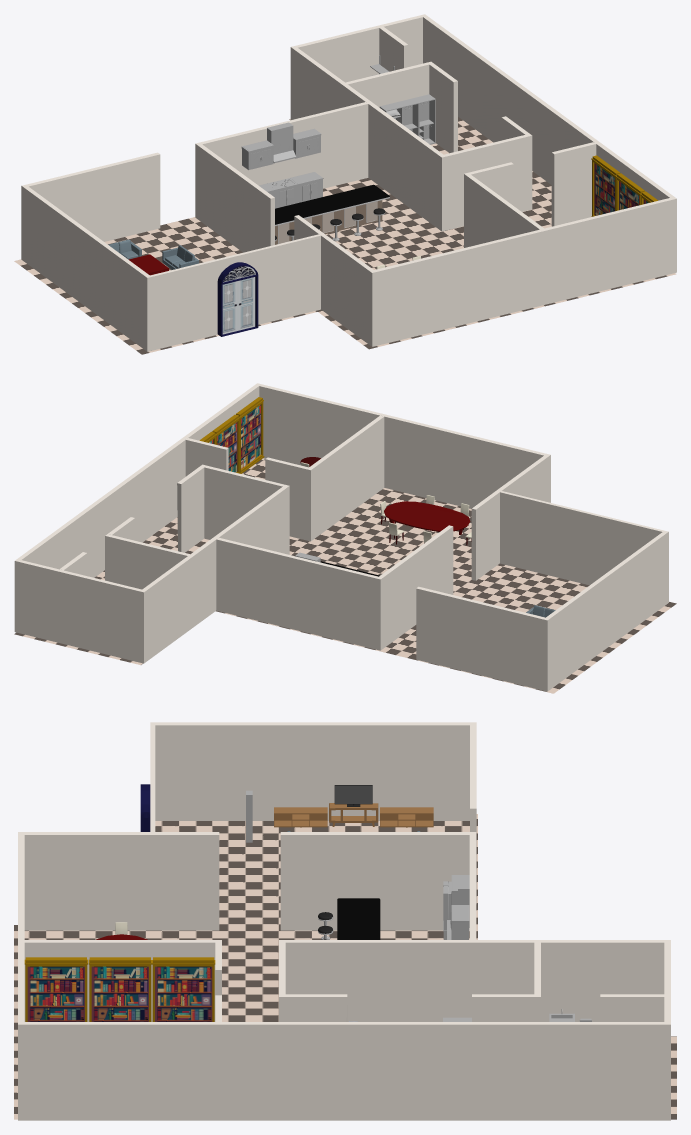
The model's file is Home_1.glb.
The picture shows the model from 3 angles, top to bottom: view 1: azimuth 30°, elevation 25°; view 2: azimuth 150°, elevation 25°; view 3: azimuth 270°, elevation 25°; orthographic projection. The views are drawn at different scales.
Parts seen in each view (by area): view 1: Home_wall_7, Floor_1, Home_wall_18, Home_wall_1, Home_wall_2, Home_wall_12, Home_wall_3, Home_wall_6, Home_wall_5, Home_wall_4, Home_wall_16, polySurface13618 (+20 smaller); view 2: Home_wall_7, Floor_1, Home_wall_6, Home_wall_18, Home_wall_2, Home_wall_3, Home_wall_1, Home_wall_16, Home_wall_12, Home_wall_10, Home_wall_5, Home_wall_4 (+8 smaller); view 3: Home_wall_18, Home_wall_2, Home_wall_12, Home_wall_4, Floor_1, Home_wall_5, BookShelf_3, BookShelf_1, BookShelf_2, Home_wall_10, polySurface13618, Home_wall_13 (+11 smaller).
Part boxes in pixels (left/top/right/bottom): Home_wall_7: left=374, top=198, right=672, bottom=345; Floor_1: left=14, top=117, right=676, bottom=354; Home_wall_18: left=421, top=14, right=676, bottom=273; Home_wall_1: left=150, top=234, right=320, bottom=350; Home_wall_2: left=21, top=184, right=151, bottom=351; Home_wall_12: left=290, top=46, right=446, bottom=231; Home_wall_3: left=26, top=152, right=160, bottom=241; Home_wall_6: left=200, top=102, right=368, bottom=188; Home_wall_5: left=195, top=142, right=274, bottom=252; Home_wall_4: left=294, top=215, right=376, bottom=346; Home_wall_16: left=295, top=15, right=422, bottom=82; polySurface13618: left=275, top=184, right=389, bottom=244; Home_wall_7: left=259, top=384, right=546, bottom=508; Floor_1: left=14, top=458, right=676, bottom=693; Home_wall_6: left=216, top=537, right=378, bottom=649; Home_wall_18: left=14, top=383, right=261, bottom=632; Home_wall_2: left=543, top=530, right=668, bottom=691; Home_wall_3: left=416, top=586, right=544, bottom=690; Home_wall_1: left=500, top=491, right=663, bottom=585; Home_wall_16: left=19, top=560, right=141, bottom=662; Home_wall_12: left=139, top=485, right=289, bottom=663; Home_wall_10: left=306, top=415, right=384, bottom=541; Home_wall_5: left=376, top=525, right=453, bottom=650; Home_wall_4: left=471, top=454, right=550, bottom=580; Home_wall_18: left=18, top=1022, right=670, bottom=1120; Home_wall_2: left=150, top=722, right=476, bottom=820; Home_wall_12: left=279, top=940, right=670, bottom=1021; Home_wall_4: left=18, top=832, right=219, bottom=930; Floor_1: left=14, top=814, right=676, bottom=1119; Home_wall_5: left=280, top=832, right=476, bottom=930; BookShelf_3: left=24, top=957, right=87, bottom=1021; BookShelf_1: left=152, top=957, right=215, bottom=1021; BookShelf_2: left=88, top=957, right=151, bottom=1021; Home_wall_10: left=24, top=940, right=221, bottom=1021; polySurface13618: left=318, top=898, right=380, bottom=939; Home_wall_13: left=279, top=994, right=347, bottom=1021.
Size of the model in its own units: 21.98 by 3.26 by 20.07.
33 materials, 5 textured.
